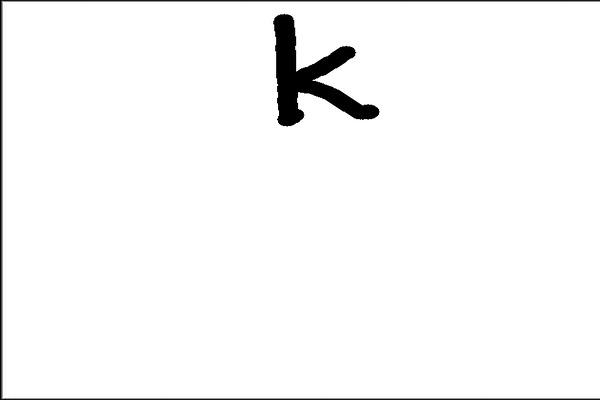K: (262, 7, 383, 136)
